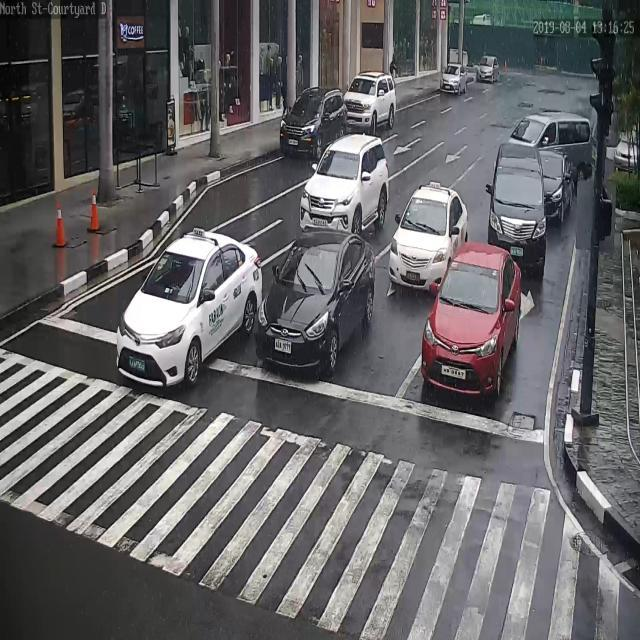car: (116, 231, 262, 392), (251, 230, 377, 384), (421, 240, 524, 403), (388, 181, 470, 294), (303, 131, 389, 235), (279, 86, 349, 155), (343, 72, 398, 133), (540, 146, 579, 221), (614, 125, 640, 177), (440, 61, 472, 94), (475, 53, 501, 83)
van: (486, 144, 546, 276), (510, 113, 593, 176)
